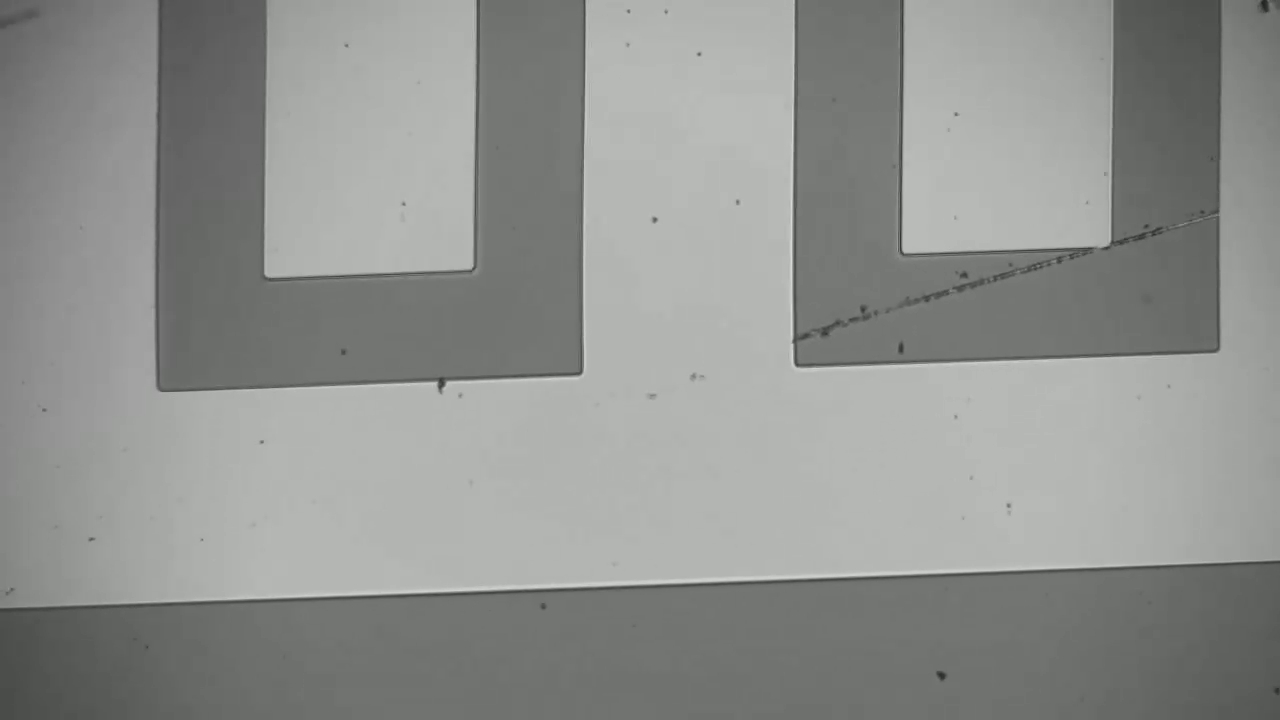scratch: (805, 209, 1215, 339)
